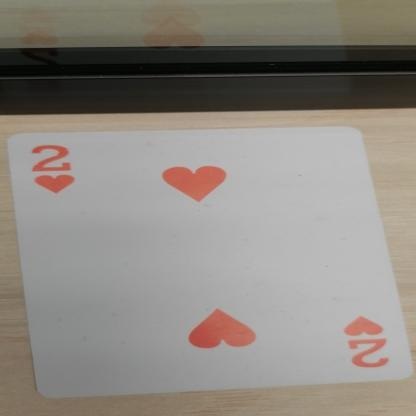2H: (318, 306, 399, 378), (21, 138, 98, 207)
